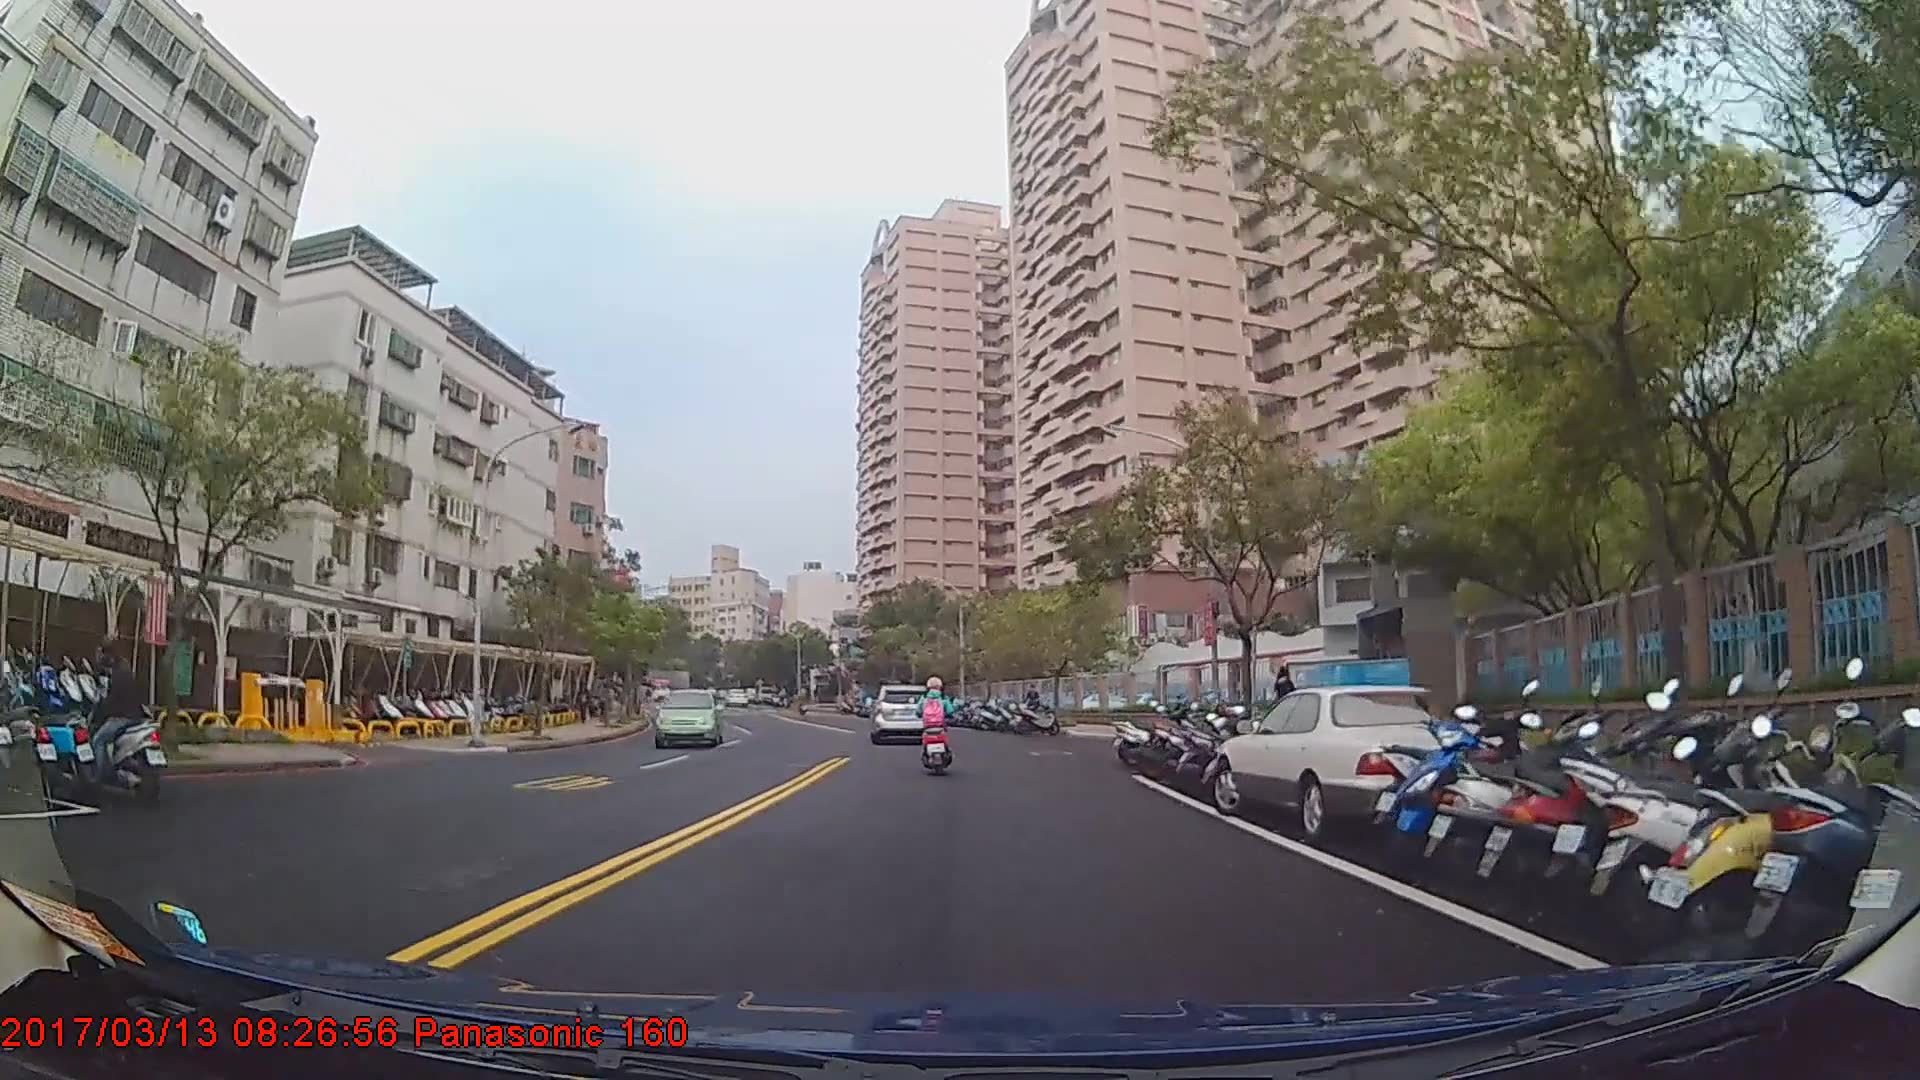pedestrian: (1274, 663, 1303, 746), (1024, 686, 1044, 728)
rider: (57, 642, 165, 803), (915, 675, 955, 778)
vehicle: (1208, 683, 1528, 834), (652, 687, 722, 748), (869, 682, 934, 742)
